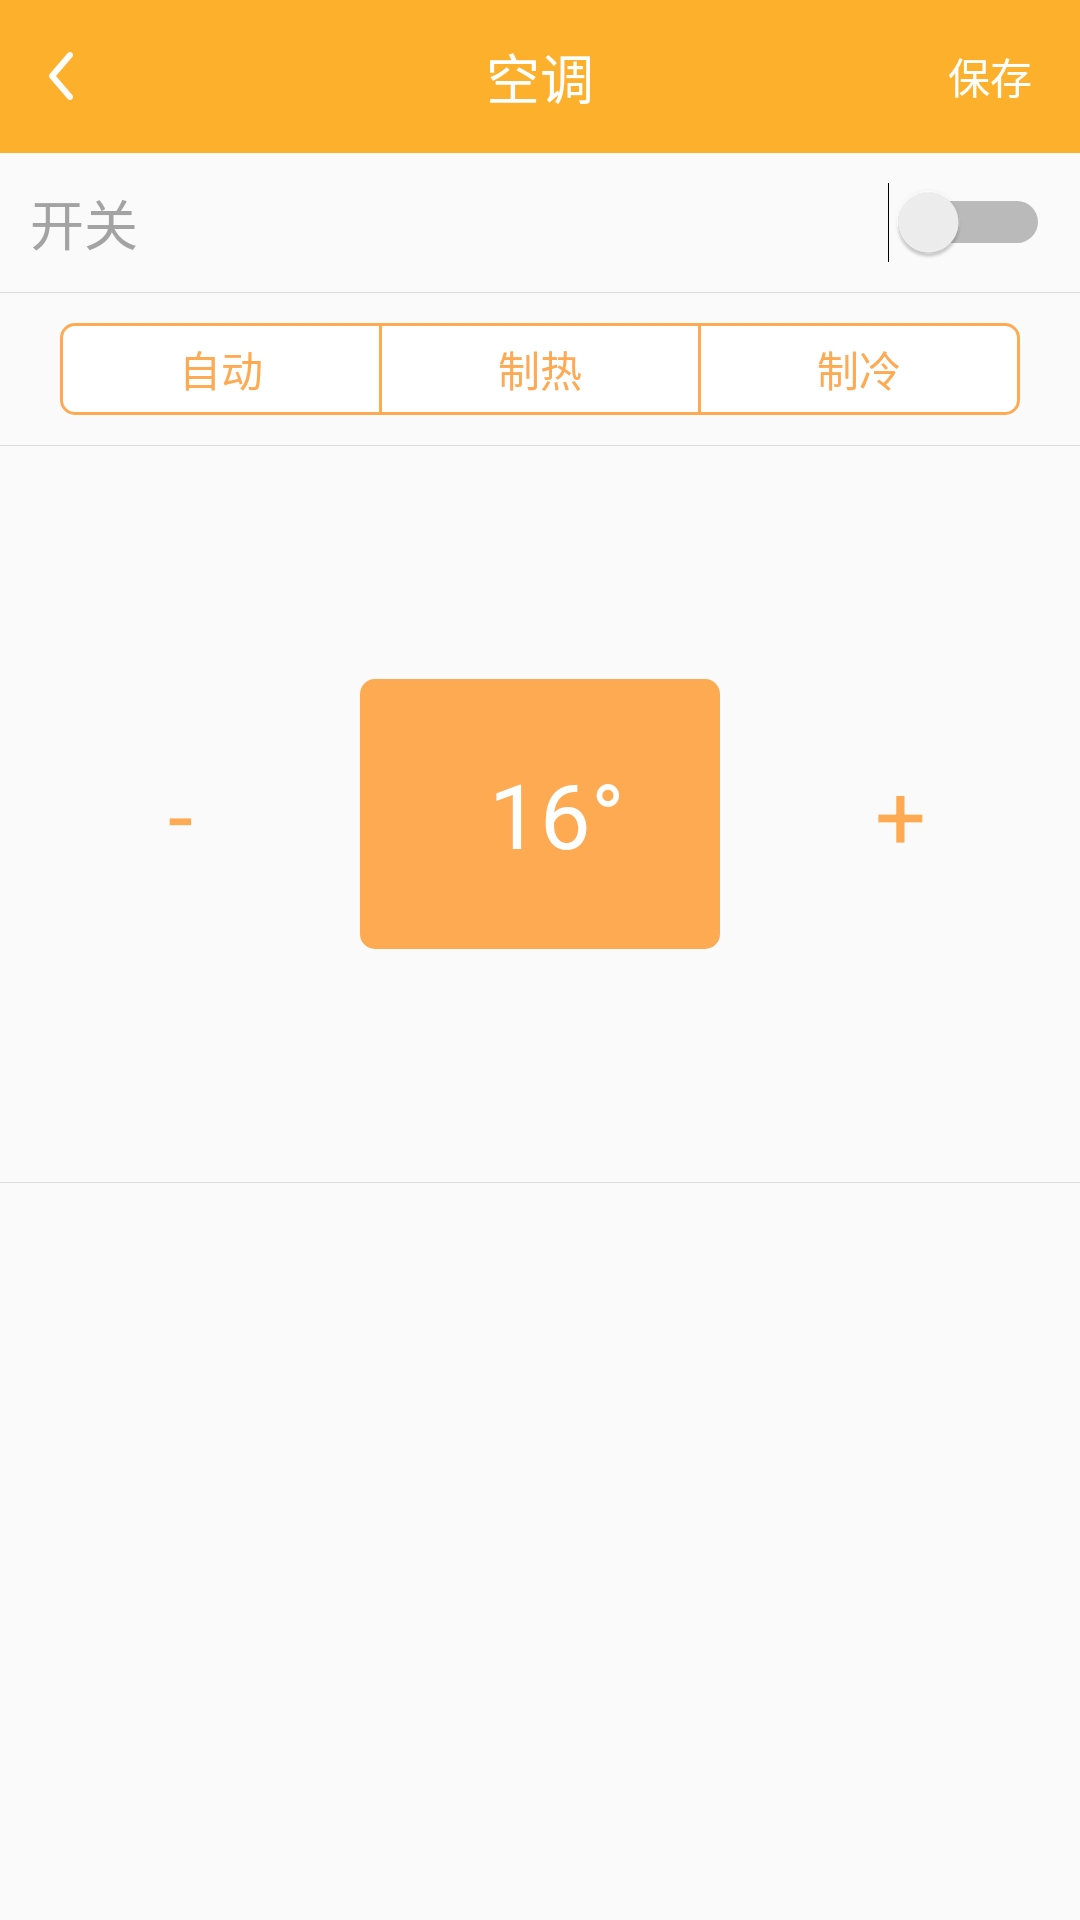

Icons on this 1080*1920 Android screen, each with the point to tap as (x,y):
custom return: (61,76)
